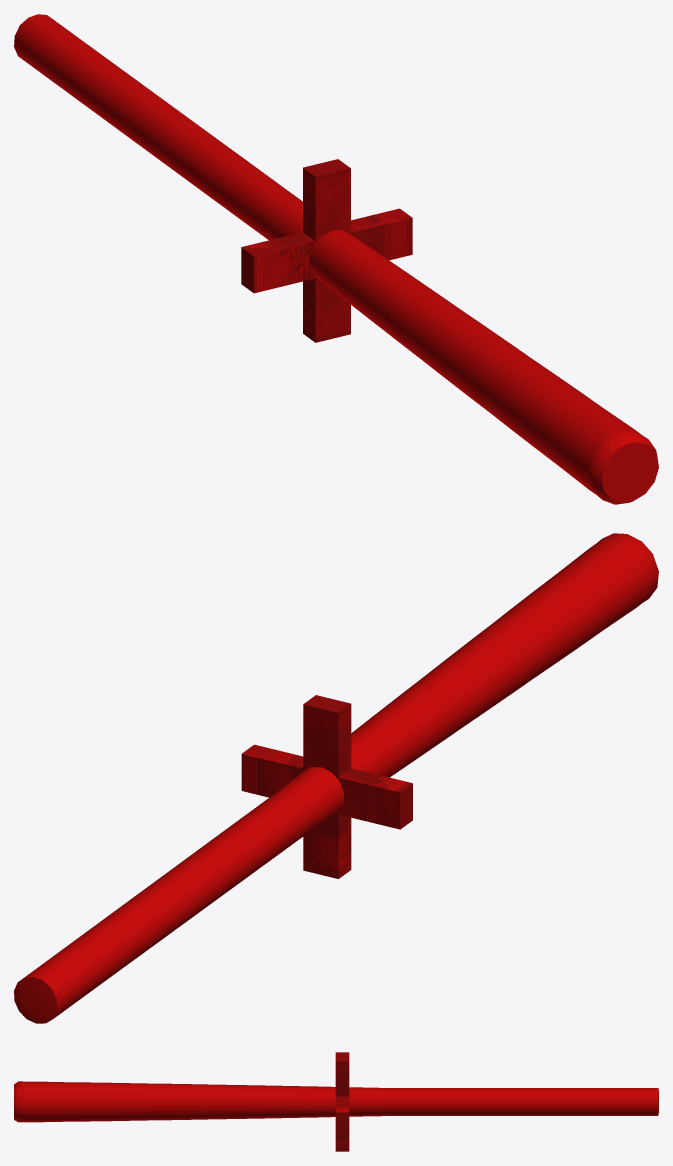
File: pyramids_merged.glb
3 views of the same model, one above another, from view 1: azimuth 30°, elevation 25°; view 2: azimuth 150°, elevation 25°; view 3: azimuth 270°, elevation 25° (orthographic). The views are drawn at different scales.
Parts seen in each view (by area): view 1: PyramidsMerged; view 2: PyramidsMerged; view 3: PyramidsMerged.
Boxes of the visible parts, x1,y1,x2,y2 form: PyramidsMerged: [14, 14, 658, 504]; PyramidsMerged: [14, 533, 658, 1023]; PyramidsMerged: [14, 1052, 658, 1151].
Size of the model in its own units: 71.85 by 71.85 by 466.
